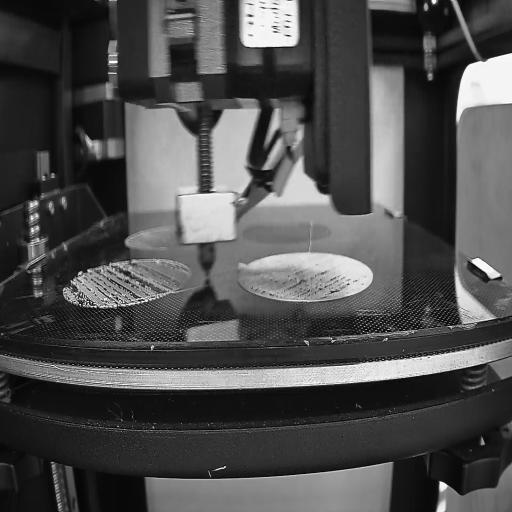under_extrusion: (63, 261, 167, 307), (274, 275, 353, 303), (248, 280, 273, 302)
